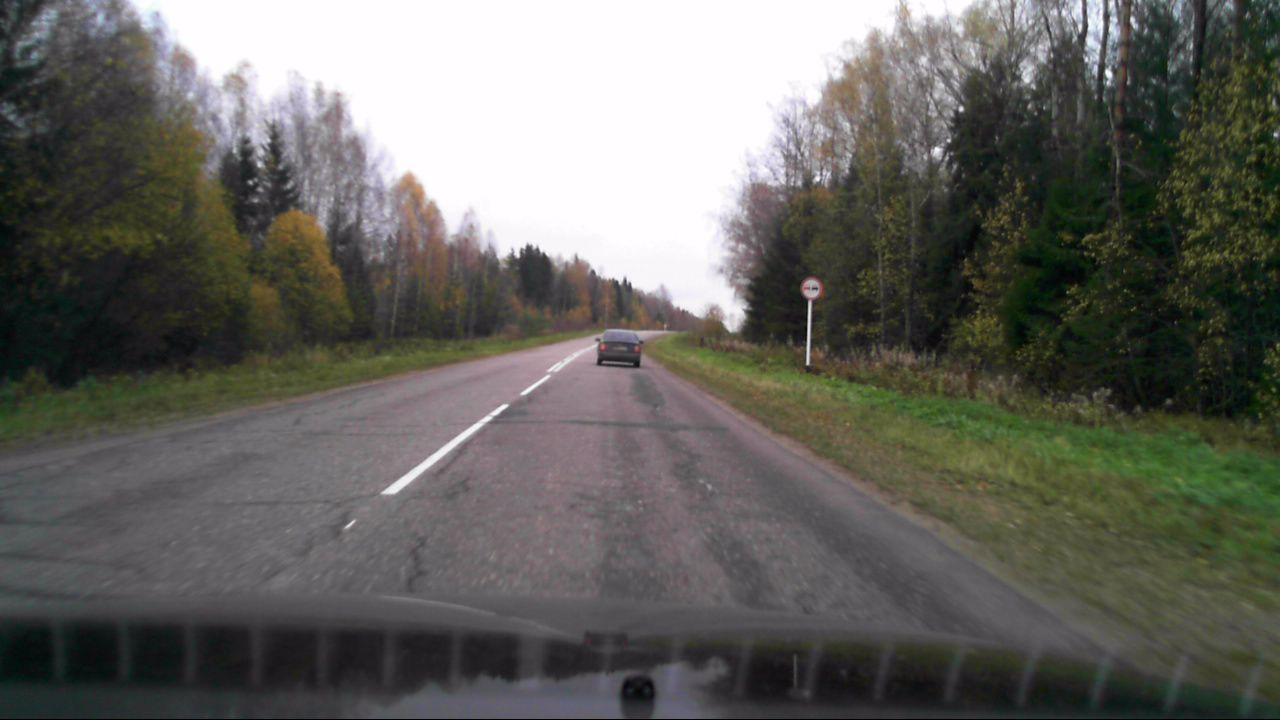road_sign: (799, 277, 824, 300)
